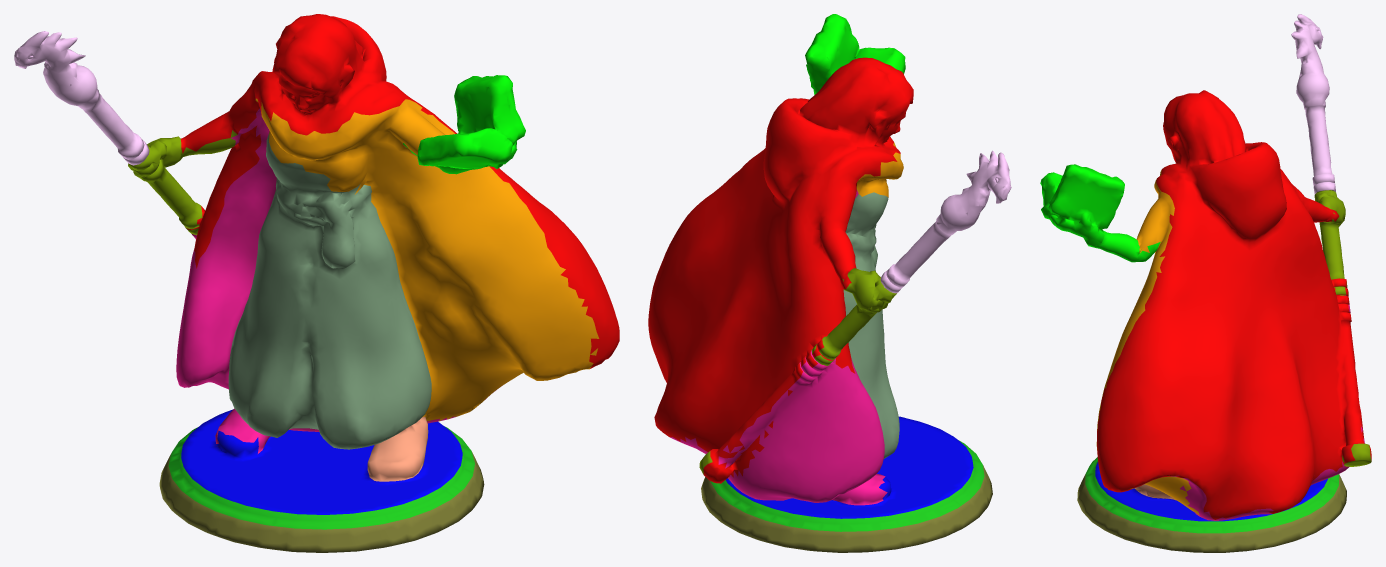
The model's file is model_55_segmented_new.obj.
3 renders of one model, left to right at view 1: azimuth 30°, elevation 25°; view 2: azimuth 150°, elevation 25°; view 3: azimuth 270°, elevation 25°, orthographic. The views are drawn at different scales.
Bounding box in the file's own units: 33.65 × 31.07 × 23.57.
